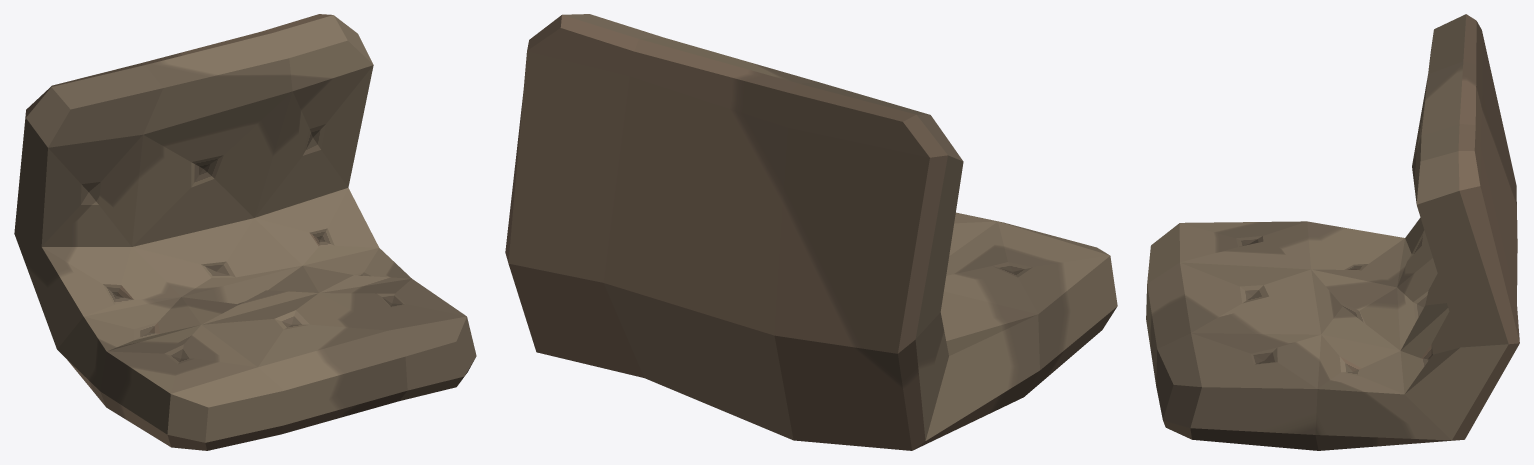
Rendered from SM_Prop_Old_Mattress_02.fbx.
3 renders of one model, left to right at view 1: azimuth 30°, elevation 25°; view 2: azimuth 150°, elevation 25°; view 3: azimuth 270°, elevation 25°, orthographic. The views are drawn at different scales.
Visible parts, largest first — view 1: SM_Prop_Old_Mattress_02; view 2: SM_Prop_Old_Mattress_02; view 3: SM_Prop_Old_Mattress_02.
Boxes of the visible parts, x1,y1,x2,y2 form: SM_Prop_Old_Mattress_02: (14, 14, 476, 450); SM_Prop_Old_Mattress_02: (505, 14, 1117, 450); SM_Prop_Old_Mattress_02: (1146, 14, 1519, 450).
Bounding box in the file's own units: 106 × 86.42 × 98.59.
